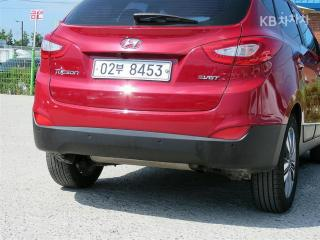0: (100, 63, 108, 75)
2: (108, 62, 116, 76)
3: (155, 64, 163, 77)
4: (138, 63, 147, 77)
5: (147, 63, 155, 77)
8: (129, 63, 138, 76)
plate: (87, 55, 176, 87)
부: (116, 62, 124, 75)
